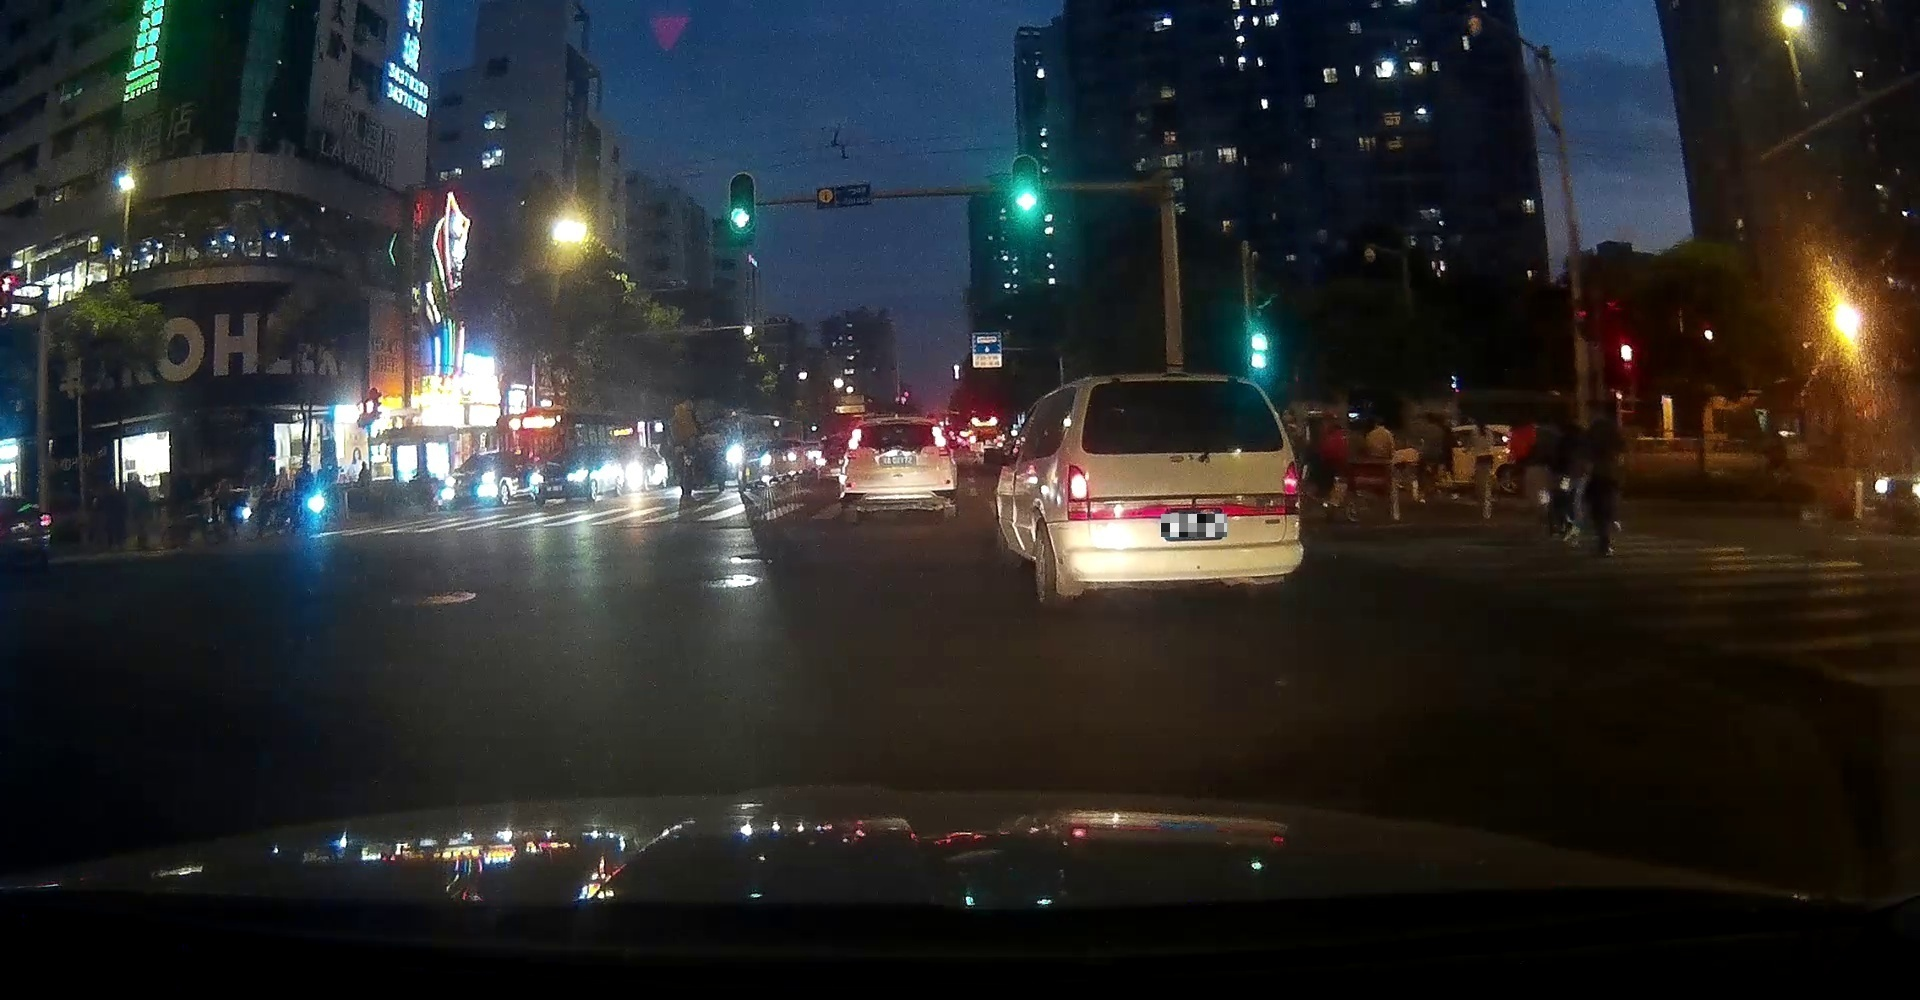L_light: (1067, 464, 1090, 522), (846, 429, 862, 458)
R_light: (1283, 459, 1300, 516), (931, 426, 949, 456)
T_light: (1161, 379, 1192, 388), (889, 424, 907, 429)
night-left: (1067, 373, 1303, 608)
night-no: (841, 416, 957, 520)
plate_1: (1161, 514, 1227, 537)
